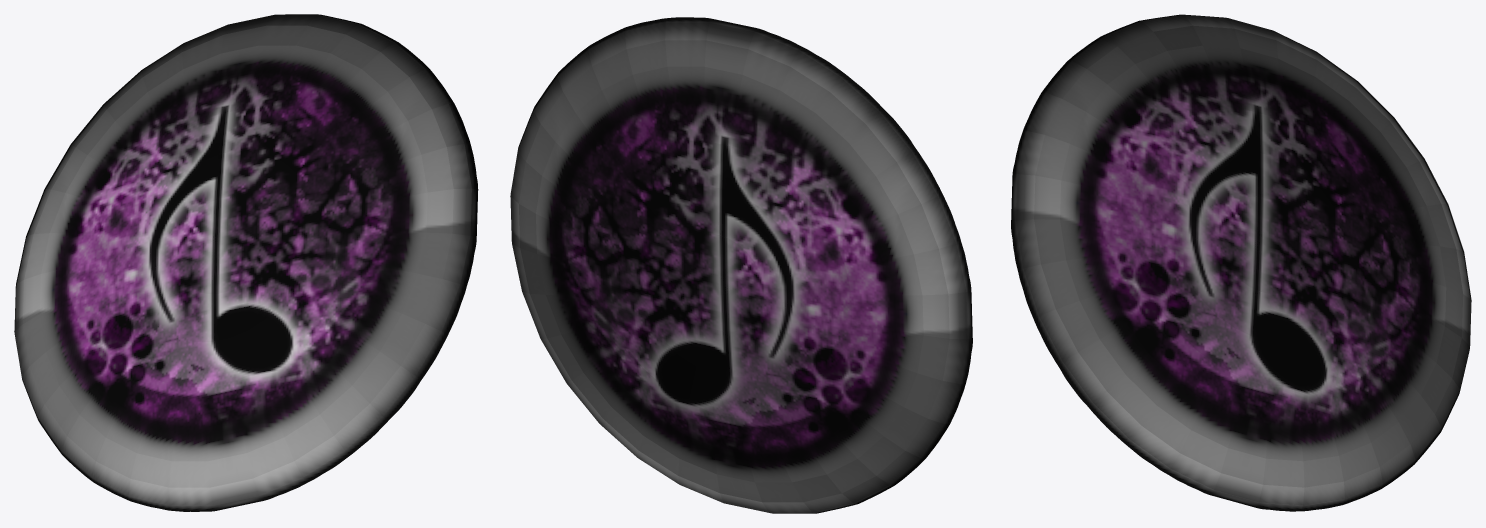
File: note.dae
The picture shows the model from 3 angles, left to right: view 1: azimuth 30°, elevation 25°; view 2: azimuth 150°, elevation 25°; view 3: azimuth 330°, elevation 25°; orthographic projection.
Visible parts, largest first — view 1: Mesh; view 2: Mesh; view 3: Mesh.
Part boxes in pixels (<box>): Mesh: <box>14,14,477,511</box>; Mesh: <box>510,17,972,513</box>; Mesh: <box>1011,14,1471,511</box>.
Size of the model in its own units: 0.52 by 0.0504 by 0.52.
